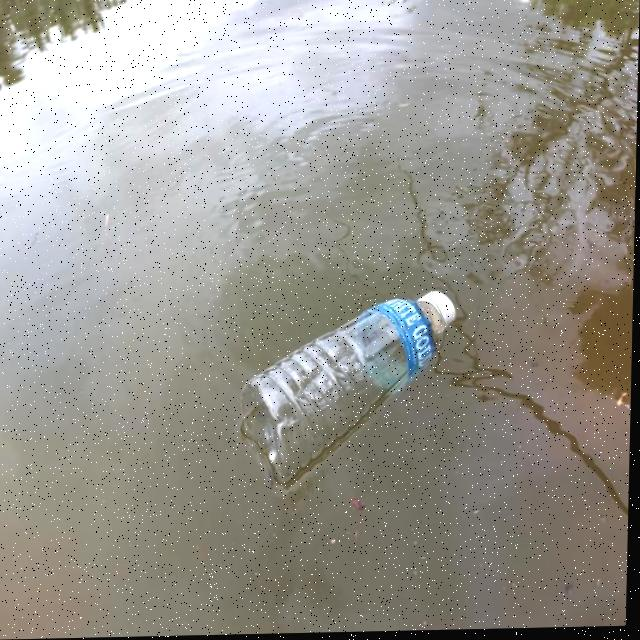waterbottle: (232, 280, 477, 481)
